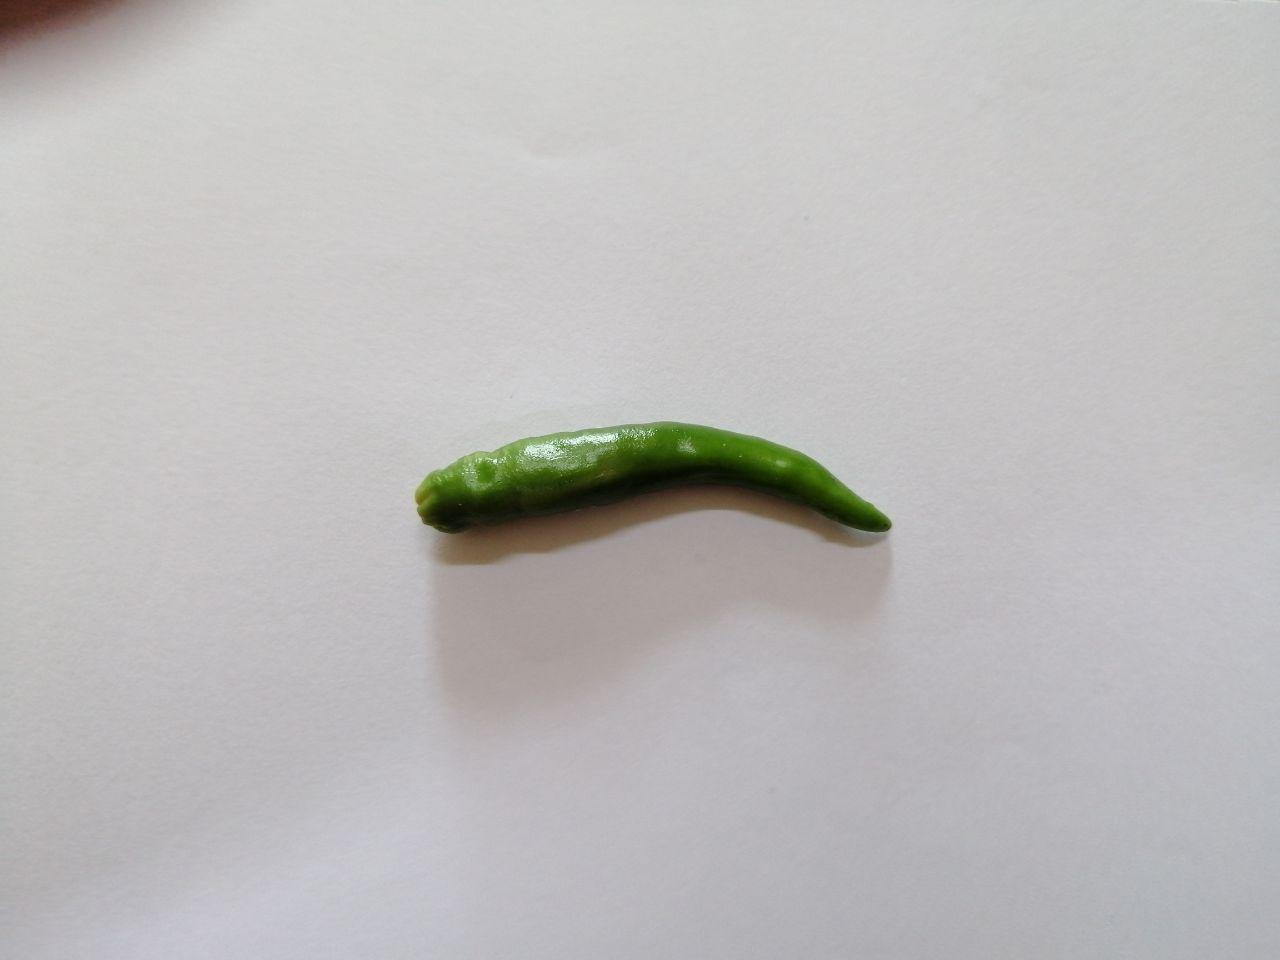lada hijau: (393, 396, 931, 580)
